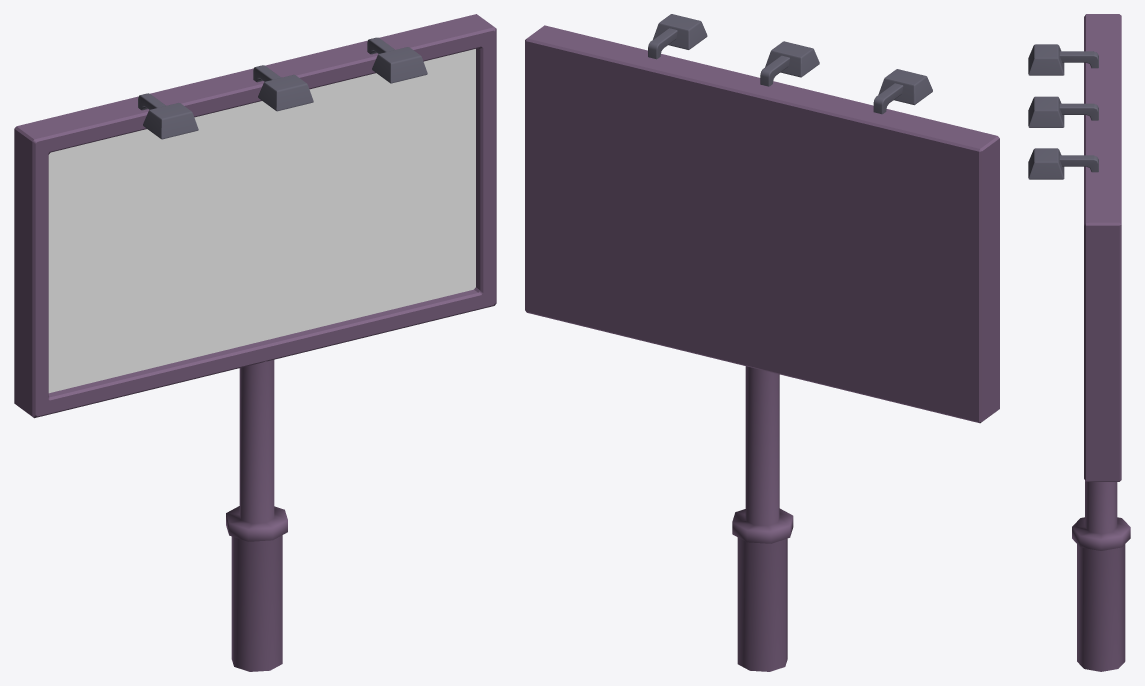
The model's file is Ad_Board_05.fbx.
3 views of the same model, side by side, from view 1: azimuth 30°, elevation 25°; view 2: azimuth 150°, elevation 25°; view 3: azimuth 270°, elevation 25° (orthographic). The views are drawn at different scales.
Parts seen in each view (by area): view 1: Board_And_Piller_M_05, Pole_05, Light_M_05, Light_M_06, Light_M_04; view 2: Board_And_Piller_M_05, Pole_05, Light_M_06, Light_M_04, Light_M_05; view 3: Board_And_Piller_M_05, Pole_05, Light_M_06, Light_M_05, Light_M_04.
Part boxes in pixels (bbox=[...]): Board_And_Piller_M_05: bbox=[14, 14, 496, 418]; Pole_05: bbox=[226, 360, 287, 671]; Light_M_05: bbox=[367, 37, 427, 83]; Light_M_06: bbox=[138, 93, 198, 139]; Light_M_04: bbox=[253, 65, 313, 111]; Board_And_Piller_M_05: bbox=[525, 25, 999, 423]; Pole_05: bbox=[732, 366, 793, 671]; Light_M_06: bbox=[873, 69, 932, 114]; Light_M_04: bbox=[760, 41, 819, 86]; Light_M_05: bbox=[648, 14, 707, 59]; Board_And_Piller_M_05: bbox=[1084, 14, 1121, 481]; Pole_05: bbox=[1072, 481, 1130, 671]; Light_M_06: bbox=[1028, 44, 1098, 75]; Light_M_05: bbox=[1028, 148, 1098, 179]; Light_M_04: bbox=[1028, 96, 1098, 127].
Size of the model in its own units: 5.69 by 7.04 by 1.17.
1 material, 1 textured.
